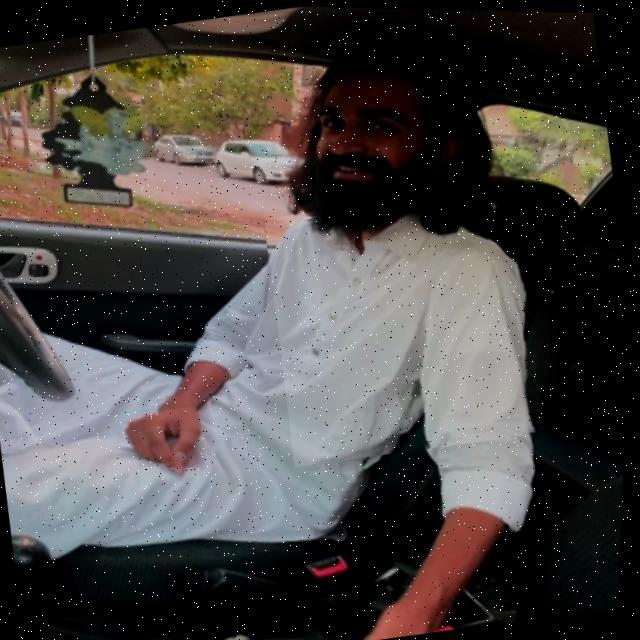no-seatbelt: (258, 175, 570, 470)
